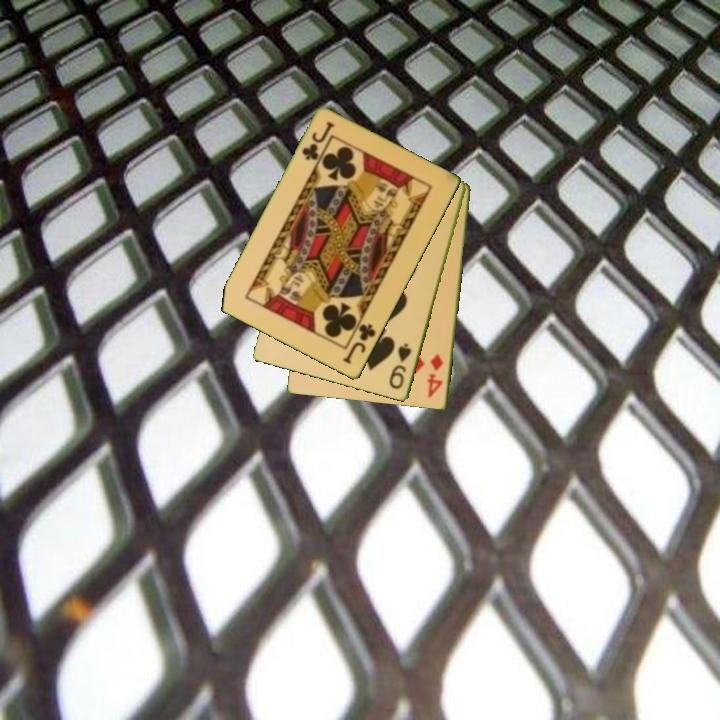4d: (424, 350, 446, 401)
9s: (386, 340, 414, 392)
Jc: (340, 320, 379, 367), (298, 118, 337, 164)
